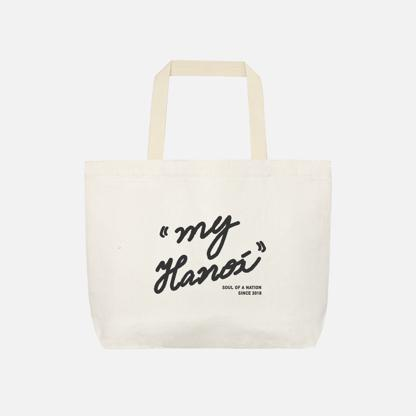not trash: (81, 57, 323, 351)
